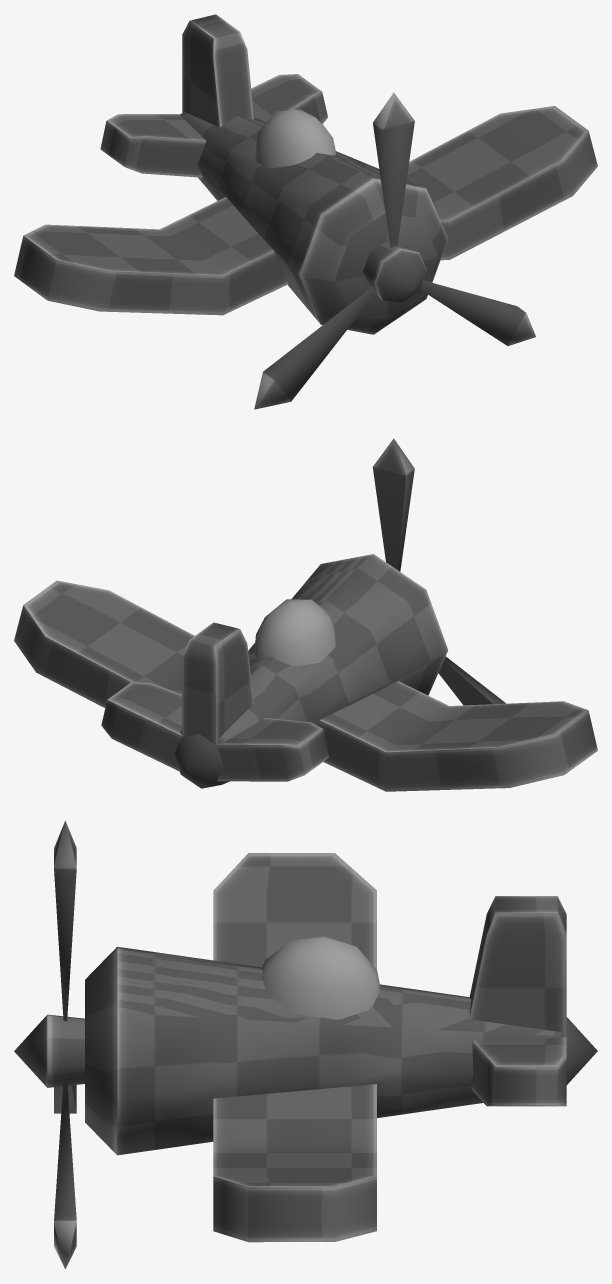
3 views of the same model, one above another, from view 1: azimuth 30°, elevation 25°; view 2: azimuth 150°, elevation 25°; view 3: azimuth 270°, elevation 25° (orthographic). The views are drawn at different scales.
Visible parts, largest first — view 1: Flying_vehicle, Propeller; view 2: Flying_vehicle, Propeller; view 3: Flying_vehicle, Propeller.
Part boxes in pixels (box(x1,y1,x2,y2)): Flying_vehicle: box(14, 14, 597, 334); Propeller: box(254, 92, 535, 409); Flying_vehicle: box(14, 554, 597, 791); Propeller: box(372, 438, 505, 705); Flying_vehicle: box(85, 853, 597, 1242); Propeller: box(14, 821, 84, 1269).
Size of the model in its own units: 118 by 58.2 by 84.42.
